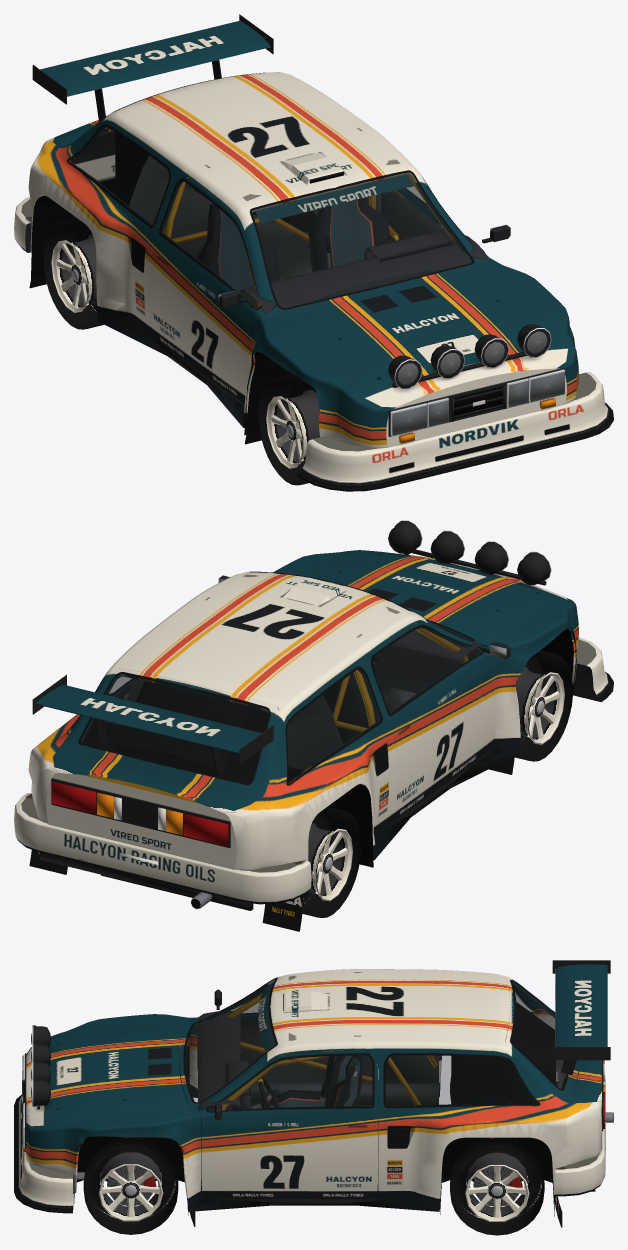
File: vireo-rally-lod.glb
The picture shows the model from 3 angles, top to bottom: view 1: azimuth 30°, elevation 25°; view 2: azimuth 150°, elevation 25°; view 3: azimuth 270°, elevation 25°; orthographic projection. The views are drawn at different scales.
Visible parts, largest first — view 1: body_shell, windscreen, hood_skin, door_r_skin, bumper_front, wing_blade, door_r_glass, dash_top, wheel_fr, wheel_rr, quarter_glass, bulkhead (+23 smaller); view 2: body_shell, door_r_skin, hood_skin, bumper_rear, rear_glass, rear_bay, tail_panel, quarter_glass, wing_blade, wheel_fr, wheel_rr, door_r_glass (+24 smaller); view 3: body_shell, door_l_skin, hood_skin, wheel_rl, wheel_fl, quarter_glass, door_l_glass, windscreen, rear_bay, wing_blade, dash_top, rear_glass (+24 smaller).
Part boxes in pixels (box(x1,y1,x2,y2)): body_shell: box(28, 72, 578, 448); windscreen: box(252, 173, 471, 307); hood_skin: box(284, 266, 555, 390); door_r_skin: box(149, 177, 264, 403); bumper_front: box(301, 372, 609, 486); wing_blade: box(40, 20, 270, 96); door_r_glass: box(161, 181, 260, 308); dash_top: box(240, 235, 487, 313); wheel_fr: box(258, 374, 319, 485); wheel_rr: box(43, 218, 103, 329); quarter_glass: box(69, 126, 168, 225); bulkhead: box(129, 155, 318, 267); body_shell: box(28, 550, 578, 870); door_r_skin: box(370, 622, 495, 822); hood_skin: box(308, 551, 555, 639); bumper_rear: box(14, 793, 311, 904); rear_glass: box(81, 674, 268, 782); rear_bay: box(115, 681, 278, 782); tail_panel: box(46, 773, 236, 869); quarter_glass: box(108, 669, 380, 783); wing_blade: box(35, 685, 261, 753); wheel_fr: box(514, 650, 572, 761); wheel_rr: box(302, 807, 360, 917); door_r_glass: box(373, 627, 482, 713); body_shell: box(26, 969, 601, 1211); door_l_skin: box(201, 1050, 377, 1198); hood_skin: box(44, 1023, 188, 1118); wheel_rl: box(450, 1138, 544, 1235); wheel_fl: box(83, 1137, 178, 1234); quarter_glass: box(386, 988, 537, 1105); door_l_glass: box(208, 1055, 372, 1111); windscreen: box(185, 980, 275, 1101); rear_bay: box(451, 1002, 555, 1177); wing_blade: box(555, 964, 607, 1046); dash_top: box(198, 1011, 240, 1136); rear_glass: box(512, 982, 565, 1088).
Size of the model in its own units: 2.07 by 1.38 by 4.13.
5 materials, 4 textured.
